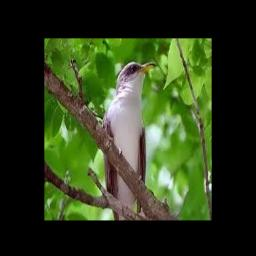Cuckoo: (102, 60, 155, 220)
